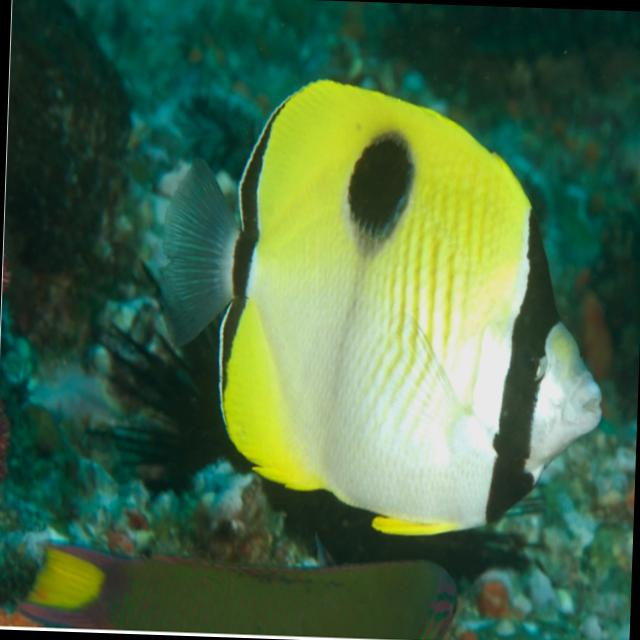ButterflyFish: (156, 70, 611, 555)
